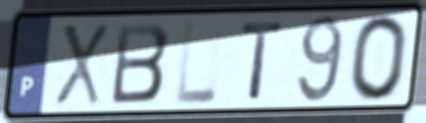9: (293, 13, 347, 106)
B: (108, 20, 172, 107)
L: (174, 17, 220, 107)
O: (347, 11, 411, 105)
T: (239, 19, 287, 102)
X: (52, 21, 110, 108)
